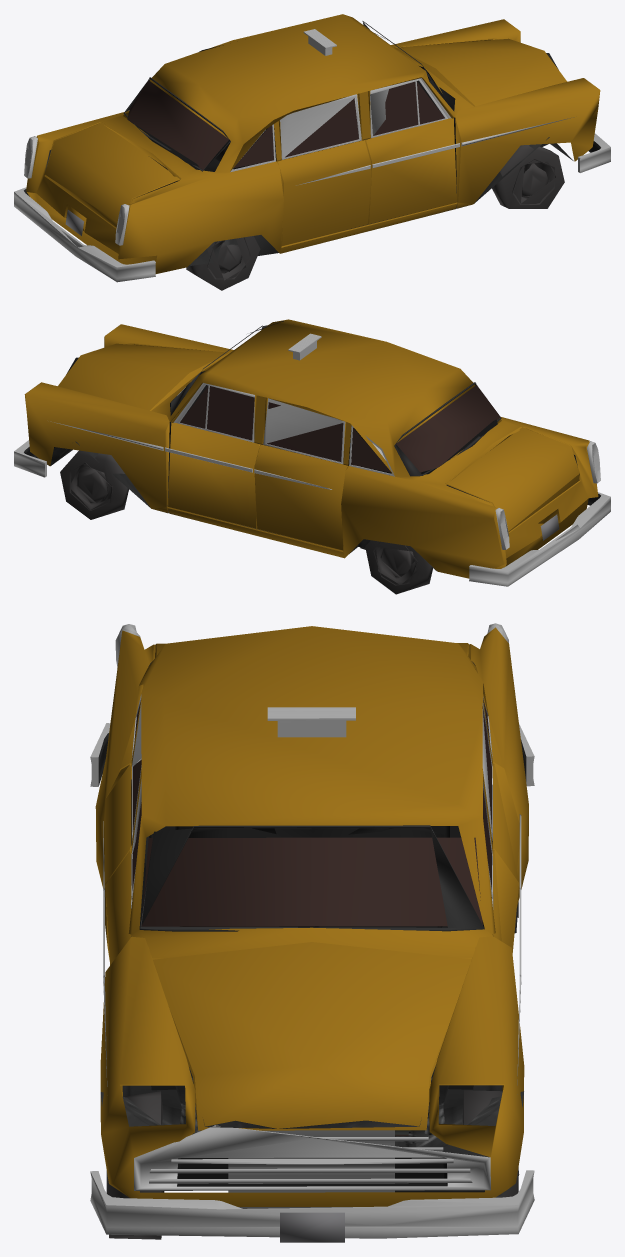
File: taxi.lod0.glb
The picture shows the model from 3 angles, top to bottom: view 1: azimuth 30°, elevation 25°; view 2: azimuth 150°, elevation 25°; view 3: azimuth 270°, elevation 25°; orthographic projection. The views are drawn at different scales.
Visible parts, largest first — view 1: Canyon75_Body_Canyon75_Bodymat_0, Canyon75_Suspension_UCB_BOTTOM_0; view 2: Canyon75_Body_Canyon75_Bodymat_0, Canyon75_Suspension_UCB_BOTTOM_0; view 3: Canyon75_Body_Canyon75_Bodymat_0, Canyon75_Suspension_UCB_BOTTOM_0.
Boxes of the visible parts, x1,y1,x2,y2 form: Canyon75_Body_Canyon75_Bodymat_0: (26,14,600,290); Canyon75_Suspension_UCB_BOTTOM_0: (14,21,610,282); Canyon75_Body_Canyon75_Bodymat_0: (24,319,598,594); Canyon75_Suspension_UCB_BOTTOM_0: (14,325,610,586); Canyon75_Body_Canyon75_Bodymat_0: (95,626,528,1242); Canyon75_Suspension_UCB_BOTTOM_0: (90,623,534,1238).
Size of the model in its own units: 4.99 by 1.71 by 1.9.
Materials: 2 (1 with a texture image).
